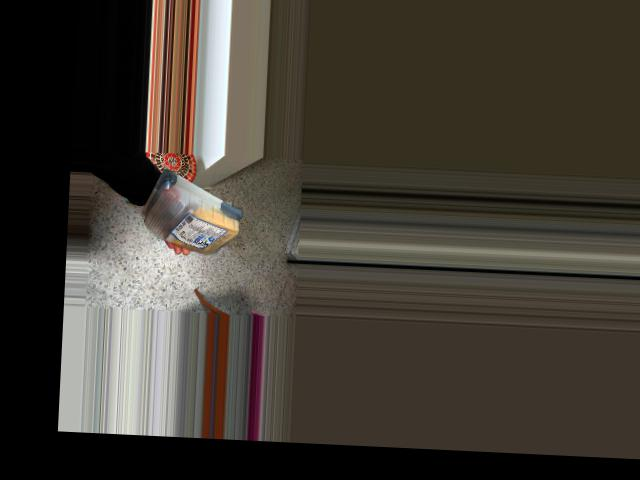cheese: (124, 169, 249, 258)
